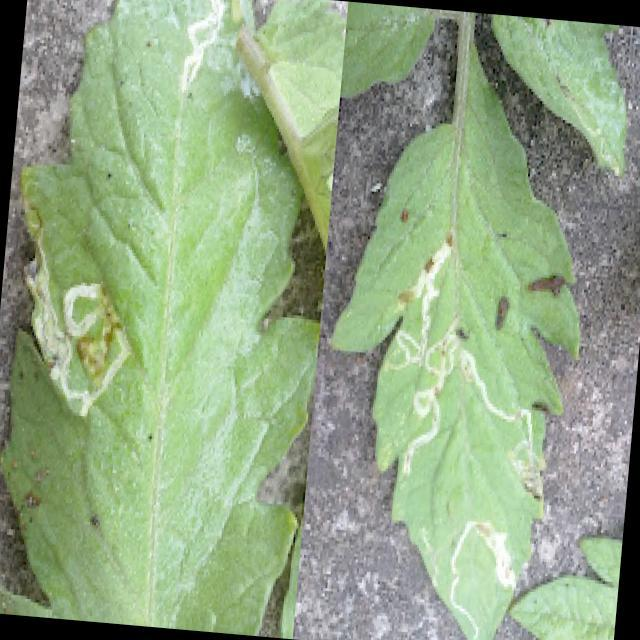Tomato target spot leaf: (0, 0, 351, 639), (309, 105, 599, 640)
